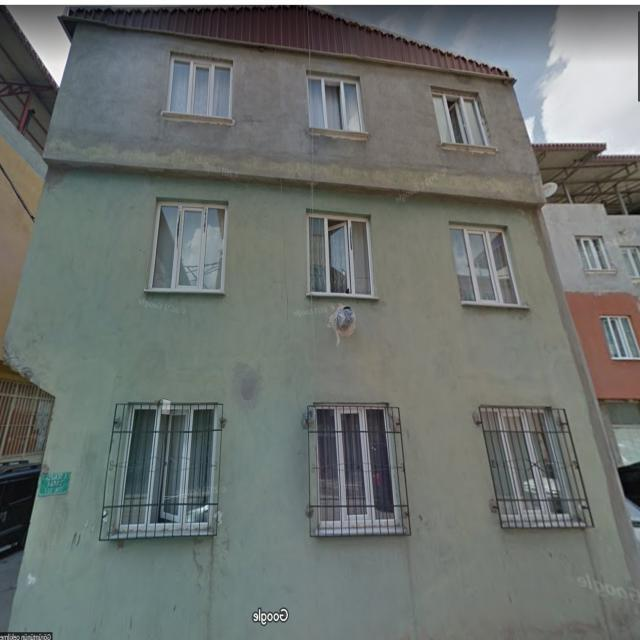Building: (5, 5, 640, 640)
